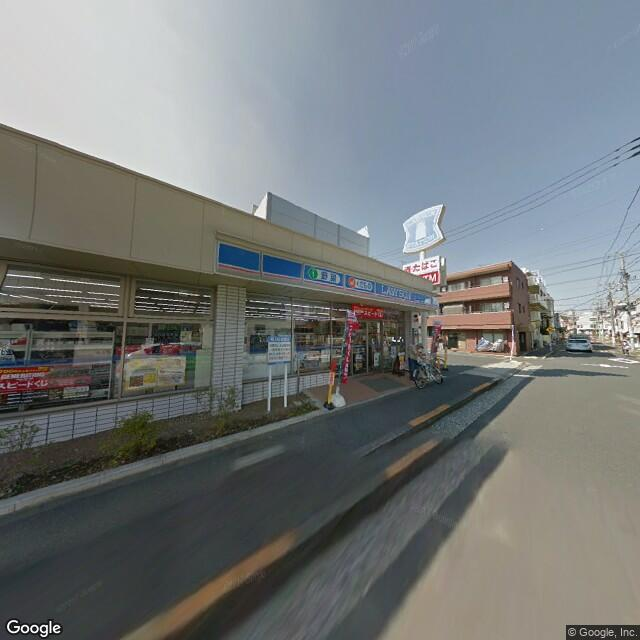lawson: (214, 234, 437, 314), (402, 198, 446, 252)
